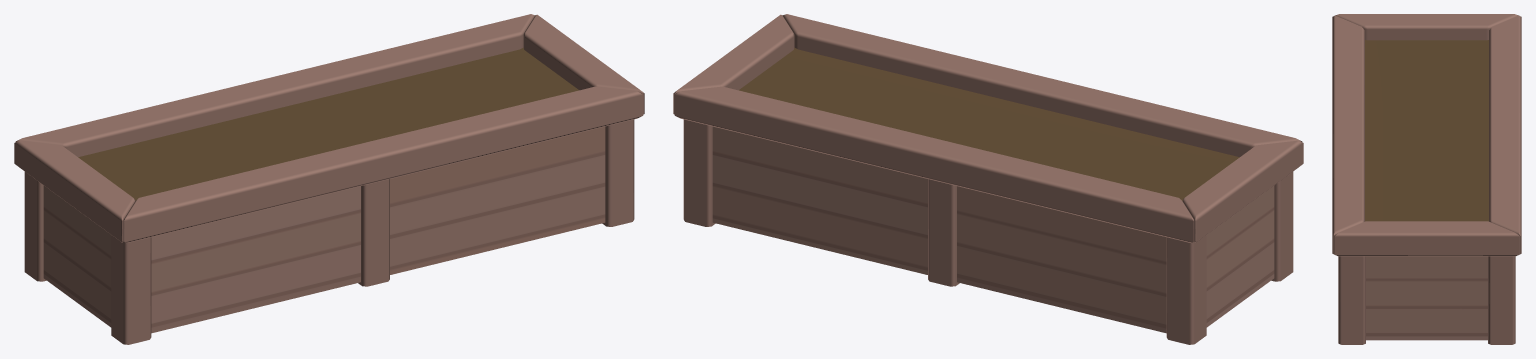
File: FlowerBed.fbx
The picture shows the model from 3 angles, left to right: view 1: azimuth 30°, elevation 25°; view 2: azimuth 150°, elevation 25°; view 3: azimuth 270°, elevation 25°; orthographic projection. The views are drawn at different scales.
Visible parts, largest first — view 1: FlowerBed; view 2: FlowerBed; view 3: FlowerBed.
Part boxes in pixels (left/top/right/bottom): FlowerBed: left=14, top=14, right=644, bottom=344; FlowerBed: left=673, top=14, right=1303, bottom=344; FlowerBed: left=1332, top=14, right=1521, bottom=344.
Size of the model in its own units: 470 by 113 by 170.
